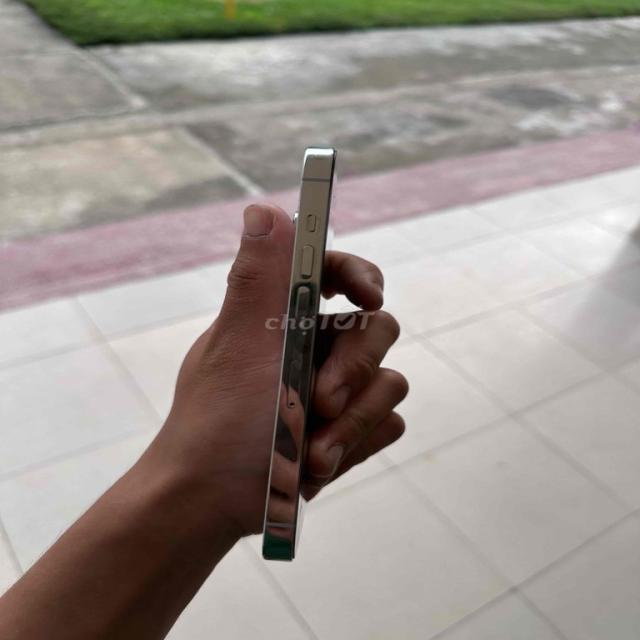scratch: (297, 320, 316, 345)
